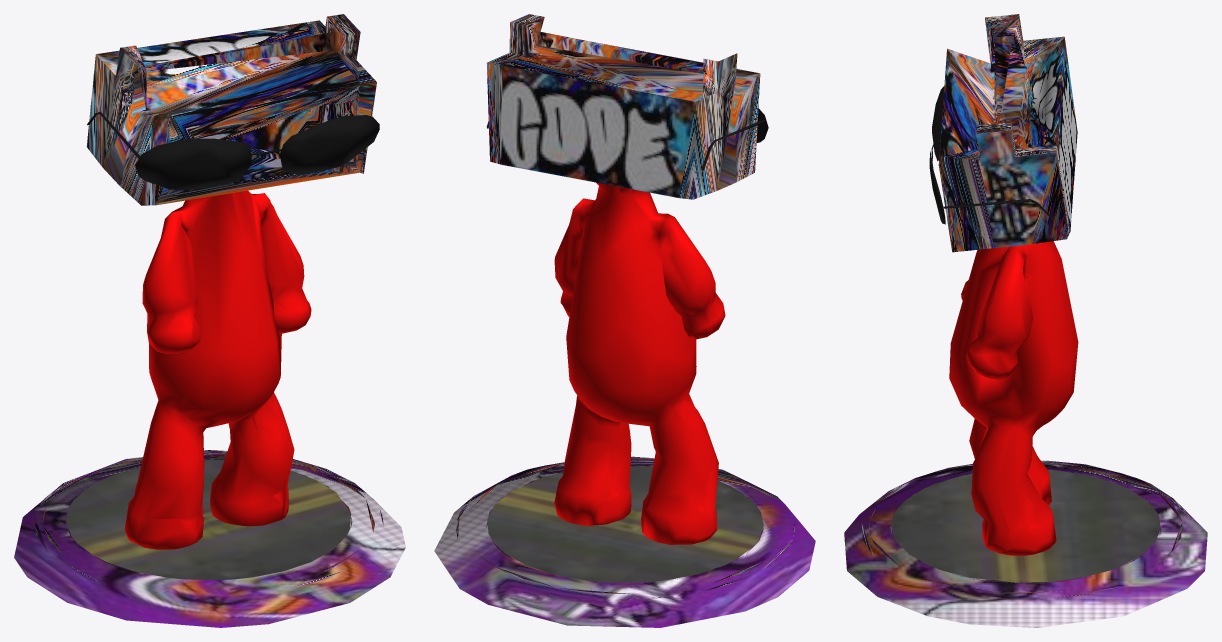
3 views of the same model, side by side, from view 1: azimuth 30°, elevation 25°; view 2: azimuth 150°, elevation 25°; view 3: azimuth 270°, elevation 25° (orthographic). The views are drawn at different scales.
Bounding box in the file's own units: 1.44 × 2.11 × 1.41.
5 materials, 3 textured.
